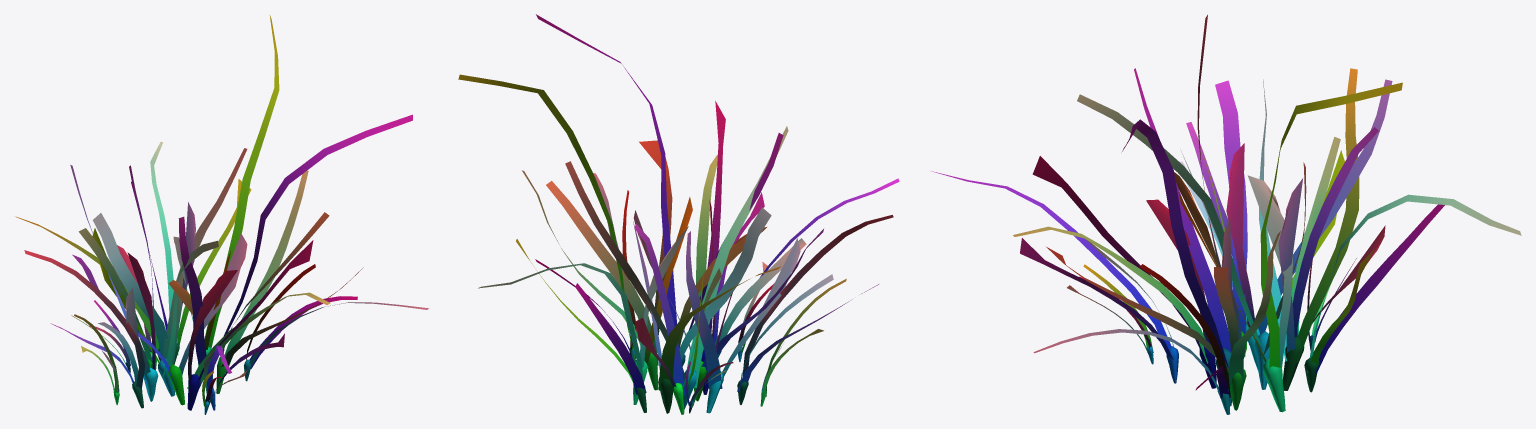
The model's file is Ribbon_Grass_tbdpec3r_Low_tbdpec3r_VarD_LOD0.fbx.
The picture shows the model from 3 angles, left to right: view 1: azimuth 30°, elevation 25°; view 2: azimuth 150°, elevation 25°; view 3: azimuth 270°, elevation 25°; orthographic projection. The views are drawn at different scales.
Visible parts, largest first — view 1: _a375_VarD_LOD1; view 2: _a375_VarD_LOD1; view 3: _a375_VarD_LOD1.
Part boxes in pixels (bbox=[...]): _a375_VarD_LOD1: bbox=[15, 15, 428, 414]; _a375_VarD_LOD1: bbox=[458, 14, 899, 414]; _a375_VarD_LOD1: bbox=[931, 14, 1521, 414].
Size of the model in its own units: 43.61 by 35.89 by 47.85.
